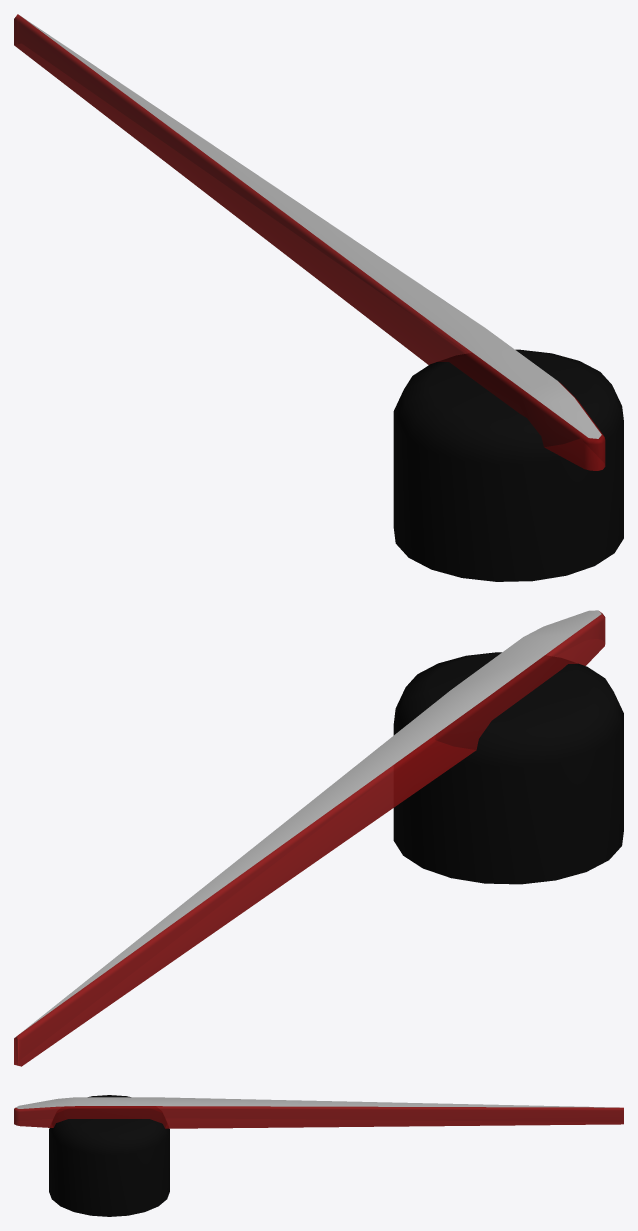
Rendered from needle_1.dae.
3 views of the same model, one above another, from view 1: azimuth 30°, elevation 25°; view 2: azimuth 150°, elevation 25°; view 3: azimuth 270°, elevation 25° (orthographic). The views are drawn at different scales.
Parts seen in each view (by area): view 1: qt_gauge_needles_1; view 2: qt_gauge_needles_1; view 3: qt_gauge_needles_1.
Part boxes in pixels (x1=…): qt_gauge_needles_1: x1=14, y1=14, x2=623, y2=581; qt_gauge_needles_1: x1=14, y1=610, x2=623, y2=1066; qt_gauge_needles_1: x1=14, y1=1095, x2=623, y2=1216.
Bounding box in the file's own units: 2.83 × 2.31 × 14.23.
